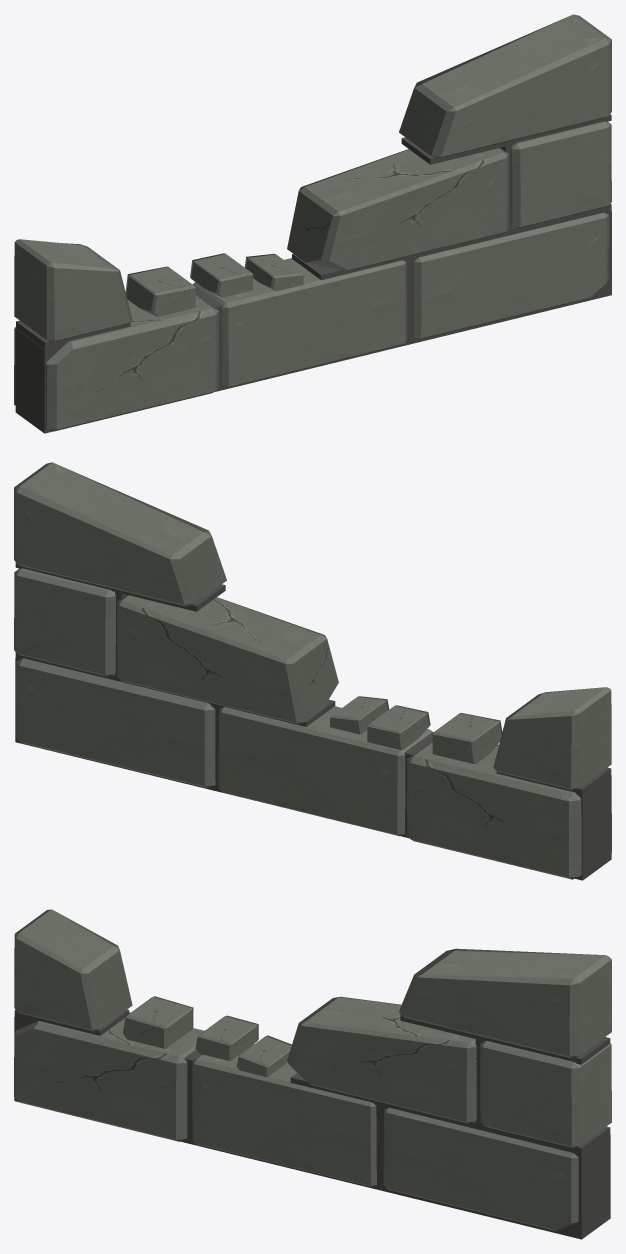
File: Wall001BROKEN_002_NoPillar.fbx
3 renders of one model, top to bottom at view 1: azimuth 30°, elevation 25°; view 2: azimuth 150°, elevation 25°; view 3: azimuth 330°, elevation 25°, orthographic.
Parts seen in each view (by area): view 1: Wall001BROKEN_002_NoPillar; view 2: Wall001BROKEN_002_NoPillar; view 3: Wall001BROKEN_002_NoPillar.
Part boxes in pixels (x1=…): Wall001BROKEN_002_NoPillar: x1=14, y1=14, x2=611, y2=433; Wall001BROKEN_002_NoPillar: x1=14, y1=462, x2=611, y2=880; Wall001BROKEN_002_NoPillar: x1=14, y1=909, x2=611, y2=1239.
Size of the model in its own units: 85.52 by 37.41 by 10.35.
4 materials, 3 textured.
